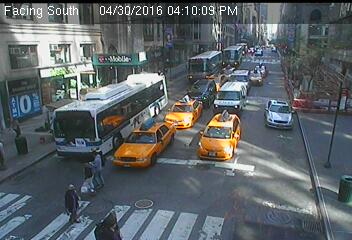neg: (312, 138, 339, 173), (174, 149, 200, 185), (118, 190, 141, 221), (170, 111, 191, 138), (88, 34, 106, 58), (137, 24, 152, 44), (250, 61, 265, 80), (265, 44, 278, 61)
pos: (56, 183, 86, 223), (75, 161, 100, 194), (6, 120, 26, 146), (40, 110, 57, 133)
